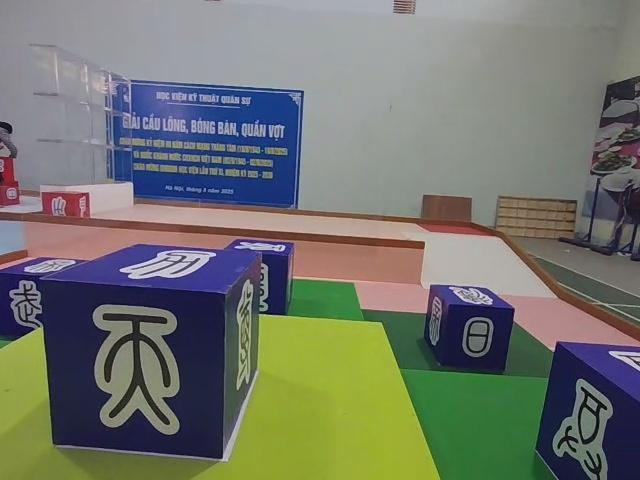R2 Fake Blue: (43, 243, 266, 458), (0, 251, 96, 344), (425, 285, 518, 375)
R2 Real Blue: (532, 344, 639, 480)
